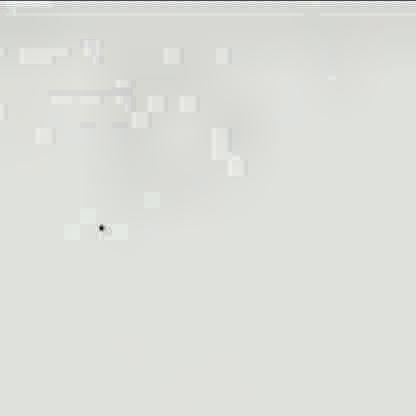golfball: (93, 218, 104, 229)
